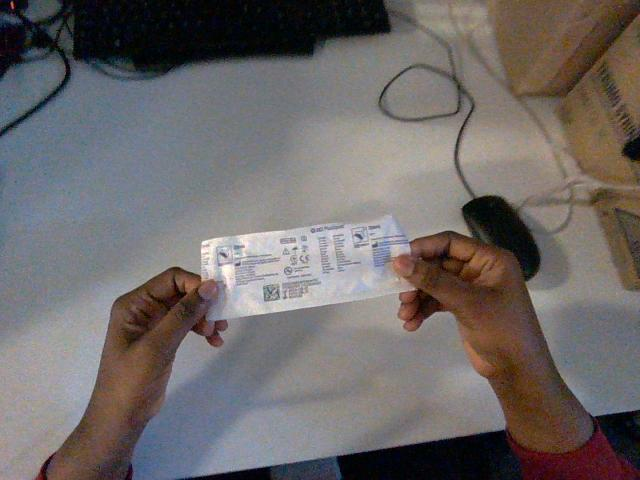syringe: (201, 215, 412, 320)
